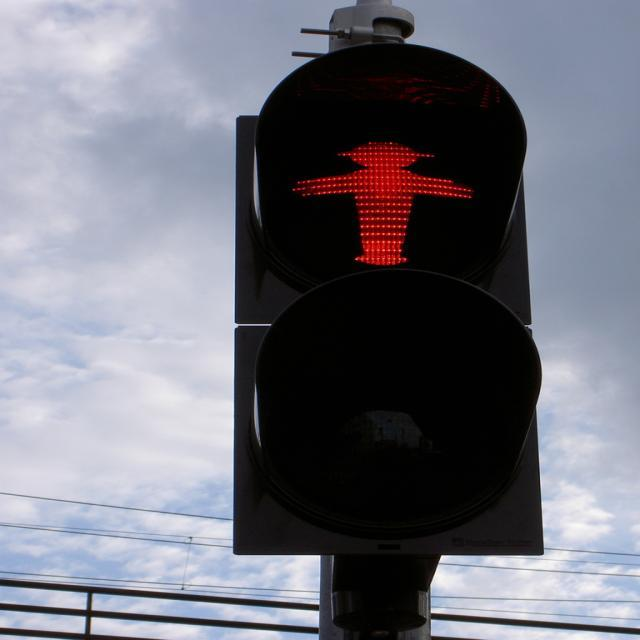traffic light: (232, 41, 546, 566)
